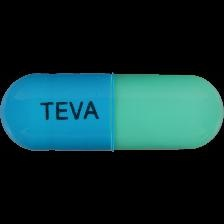0093-7544: (0, 0, 224, 224)
